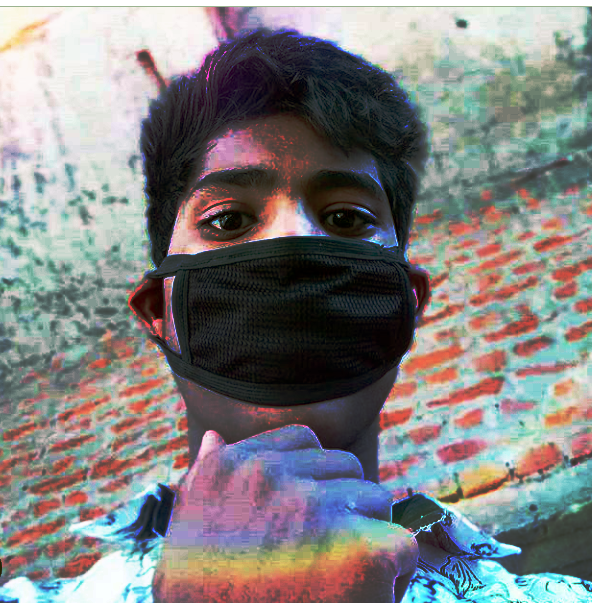mask_weared_incorrect: (134, 34, 431, 457)
